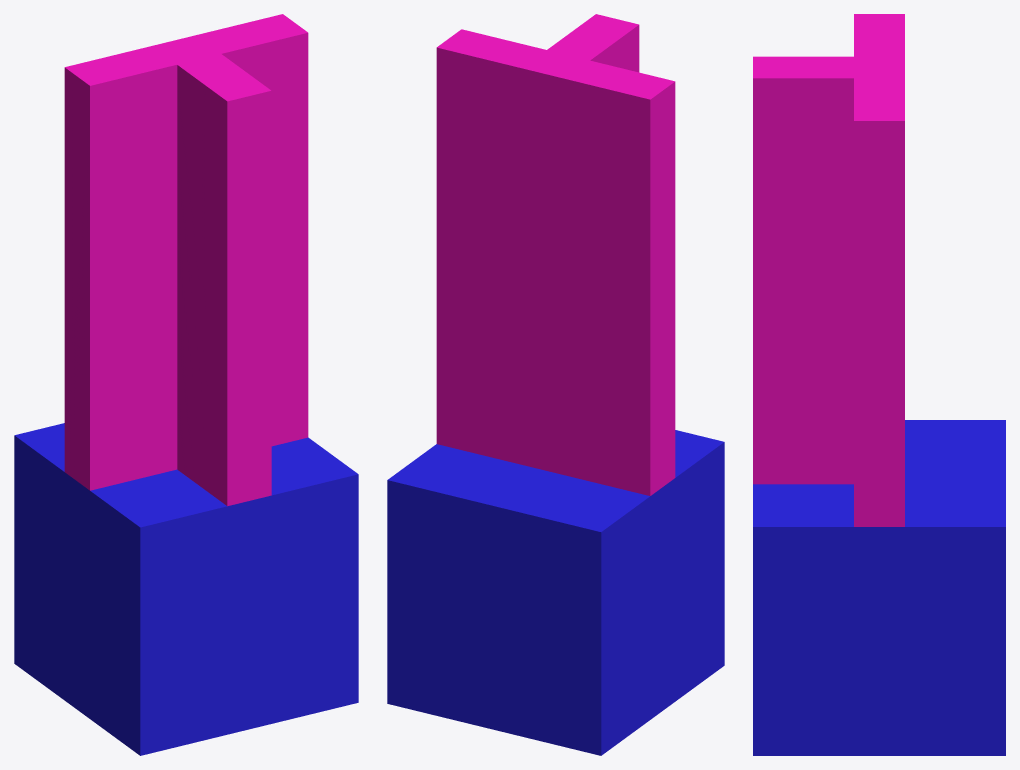
The model's file is SplitWall.fbx.
The picture shows the model from 3 angles, left to right: view 1: azimuth 30°, elevation 25°; view 2: azimuth 150°, elevation 25°; view 3: azimuth 270°, elevation 25°; orthographic projection. The views are drawn at different scales.
Visible parts, largest first — view 1: splitwall_lowpoly, Box241; view 2: splitwall_lowpoly, Box241; view 3: Box241, splitwall_lowpoly.
Boxes of the visible parts, box(x1,y1,x2,y2) form: splitwall_lowpoly: box(64, 14, 308, 506); Box241: box(14, 423, 358, 755); splitwall_lowpoly: box(436, 14, 675, 495); Box241: box(387, 430, 724, 755); Box241: box(753, 420, 1005, 755); splitwall_lowpoly: box(753, 14, 904, 526).
Size of the model in its own units: 39.5 by 110 by 39.5.
